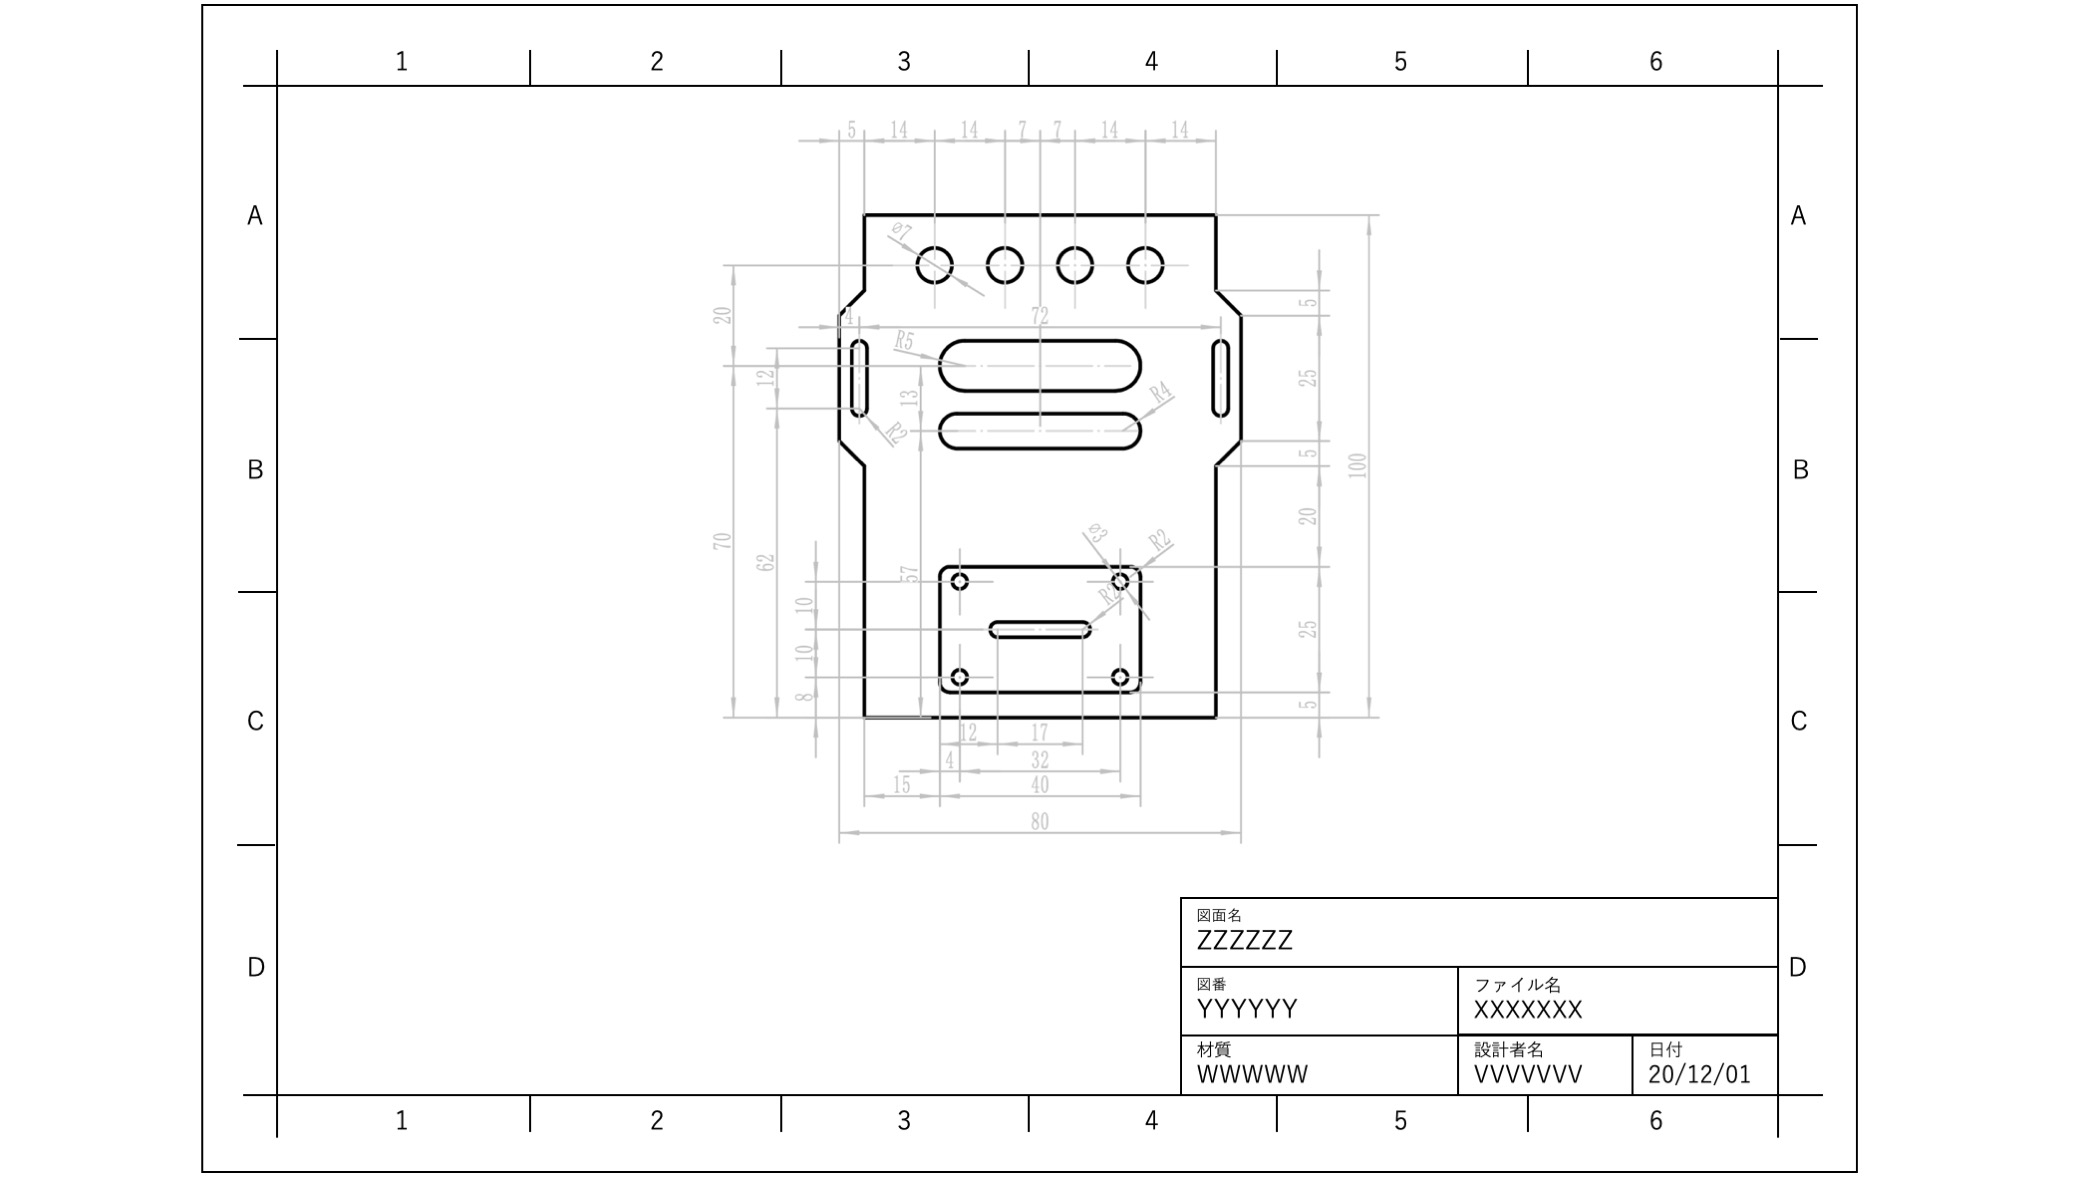circle: (1051, 241, 1100, 290), (976, 244, 1028, 290), (1124, 241, 1170, 287), (914, 244, 955, 290), (1105, 658, 1134, 689), (1105, 567, 1137, 593), (948, 562, 971, 591), (948, 665, 976, 688)
round_rectangle: (935, 332, 1145, 399), (937, 407, 1150, 456), (984, 609, 1098, 645), (838, 317, 873, 420), (1206, 327, 1236, 421)
